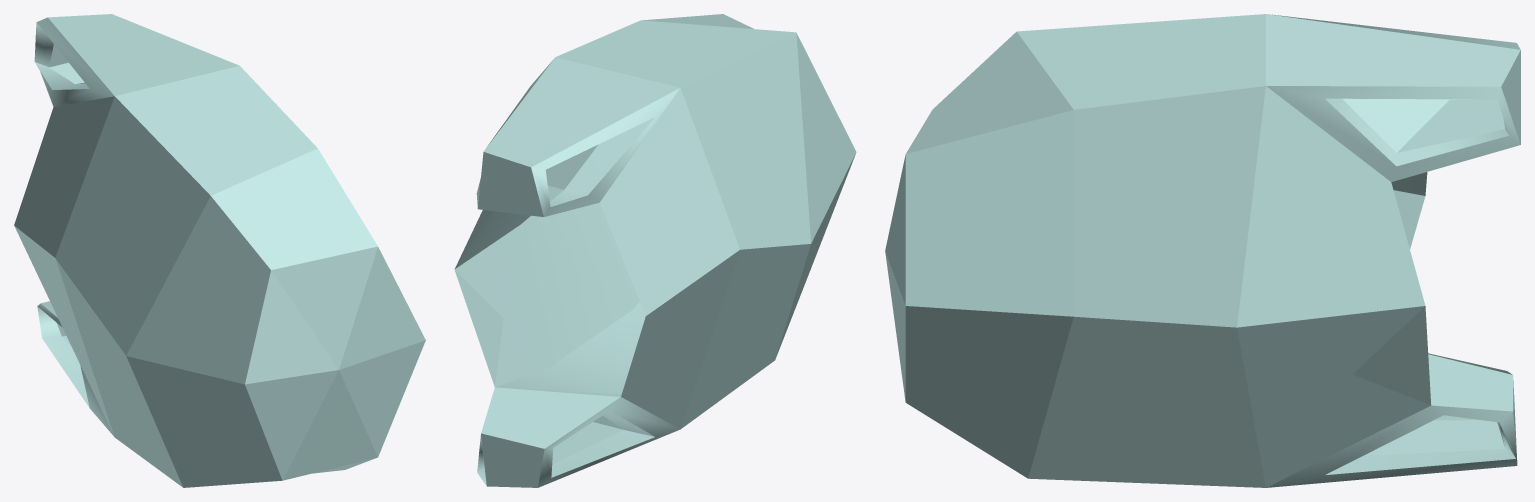
Rendered from Bolsa.fbx.
3 renders of one model, left to right at view 1: azimuth 30°, elevation 25°; view 2: azimuth 150°, elevation 25°; view 3: azimuth 270°, elevation 25°, orthographic. The views are drawn at different scales.
Parts seen in each view (by area): view 1: Bolsa; view 2: Bolsa; view 3: Bolsa.
Part boxes in pixels (x1,y1,x2,y2): Bolsa: [14, 14, 425, 487]; Bolsa: [454, 14, 856, 487]; Bolsa: [885, 14, 1520, 487].
Size of the model in its own units: 15.7 by 21.66 by 31.04.
